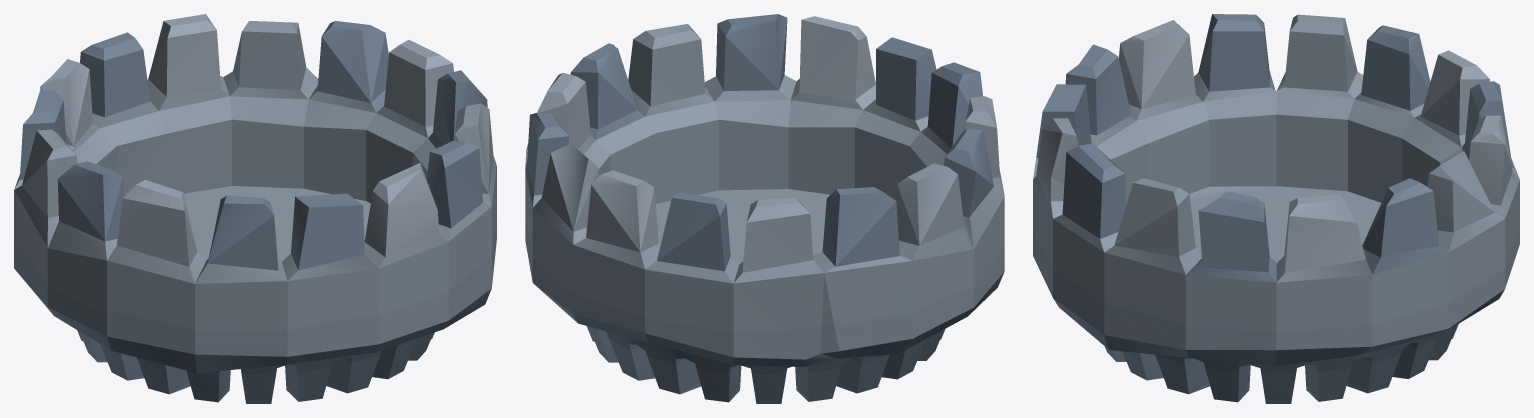
The model's file is Castle-tower-top-ver1.fbx.
The picture shows the model from 3 angles, left to right: view 1: azimuth 30°, elevation 25°; view 2: azimuth 150°, elevation 25°; view 3: azimuth 270°, elevation 25°; orthographic projection.
Parts seen in each view (by area): view 1: Castle-tower-top-ver1; view 2: Castle-tower-top-ver1; view 3: Castle-tower-top-ver1.
Boxes of the visible parts, x1,y1,x2,y2 form: Castle-tower-top-ver1: (14, 14, 496, 403); Castle-tower-top-ver1: (525, 14, 1004, 403); Castle-tower-top-ver1: (1033, 14, 1519, 403).
Size of the model in its own units: 5.63 by 3 by 5.63.
